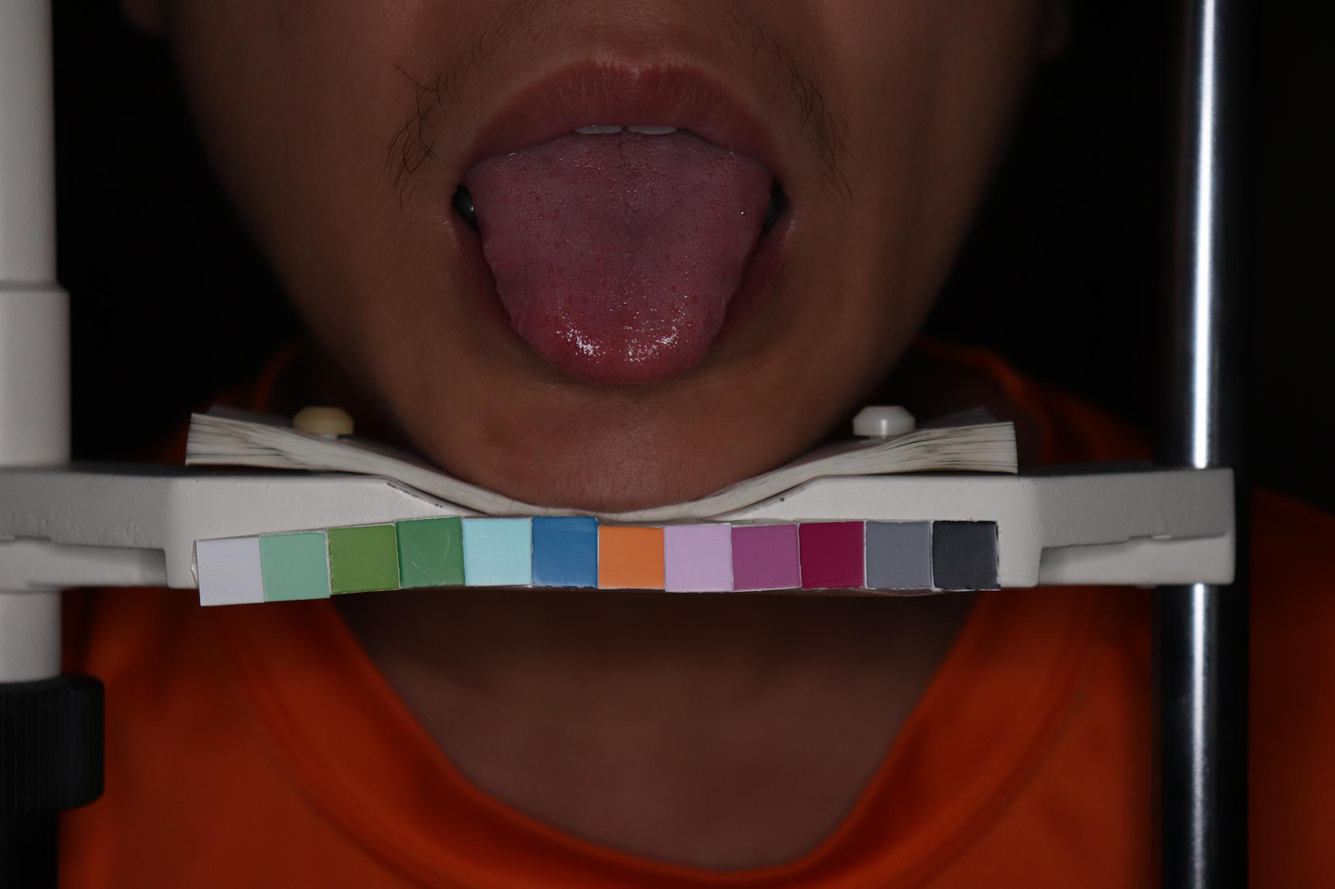baitaishe: (464, 134, 771, 384)
hongshe: (465, 135, 772, 386)
